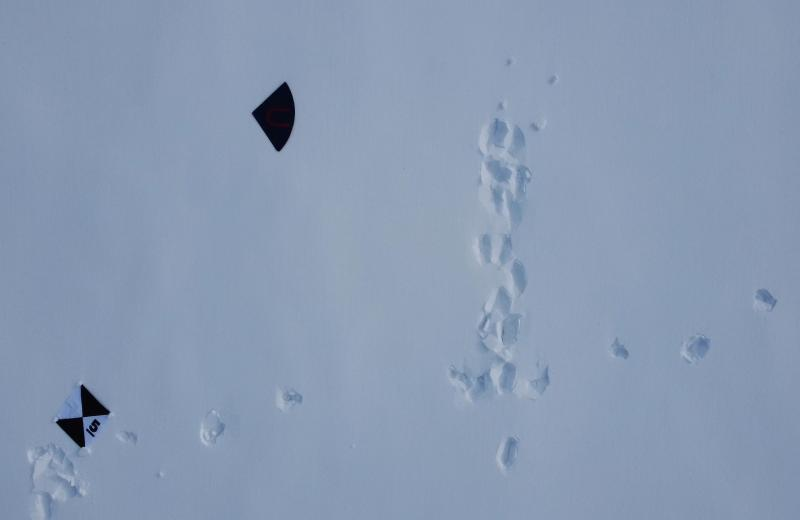Quarter Circle: (253, 80, 295, 154)
